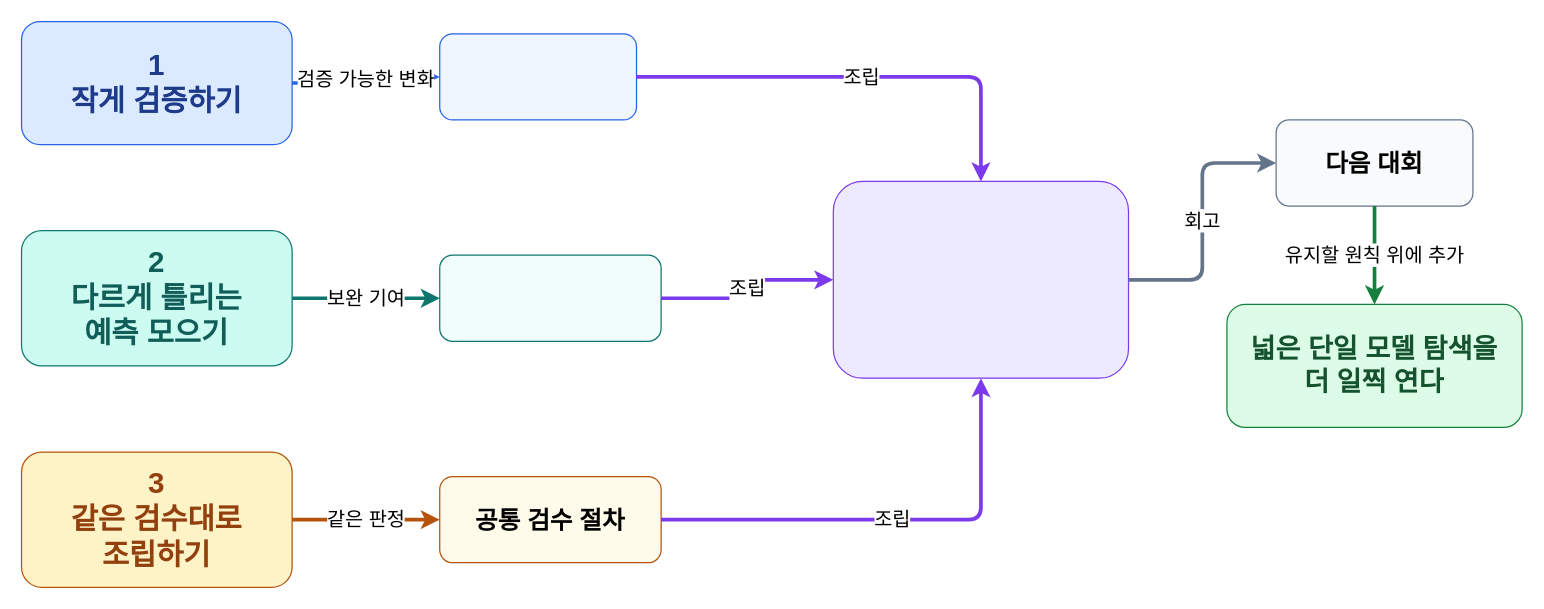
The diagram is 1544 pixels wide and 609 high, and some of its shapes have lost their labels. Here are the shapes that lost their labels. From the top down, the centre of each, then its label:
At [537,76]: "작은 실험".
At [549,297]: "서로 다른 오차".
At [980,279]: "최종 결과 Private 0.97109 14위".
